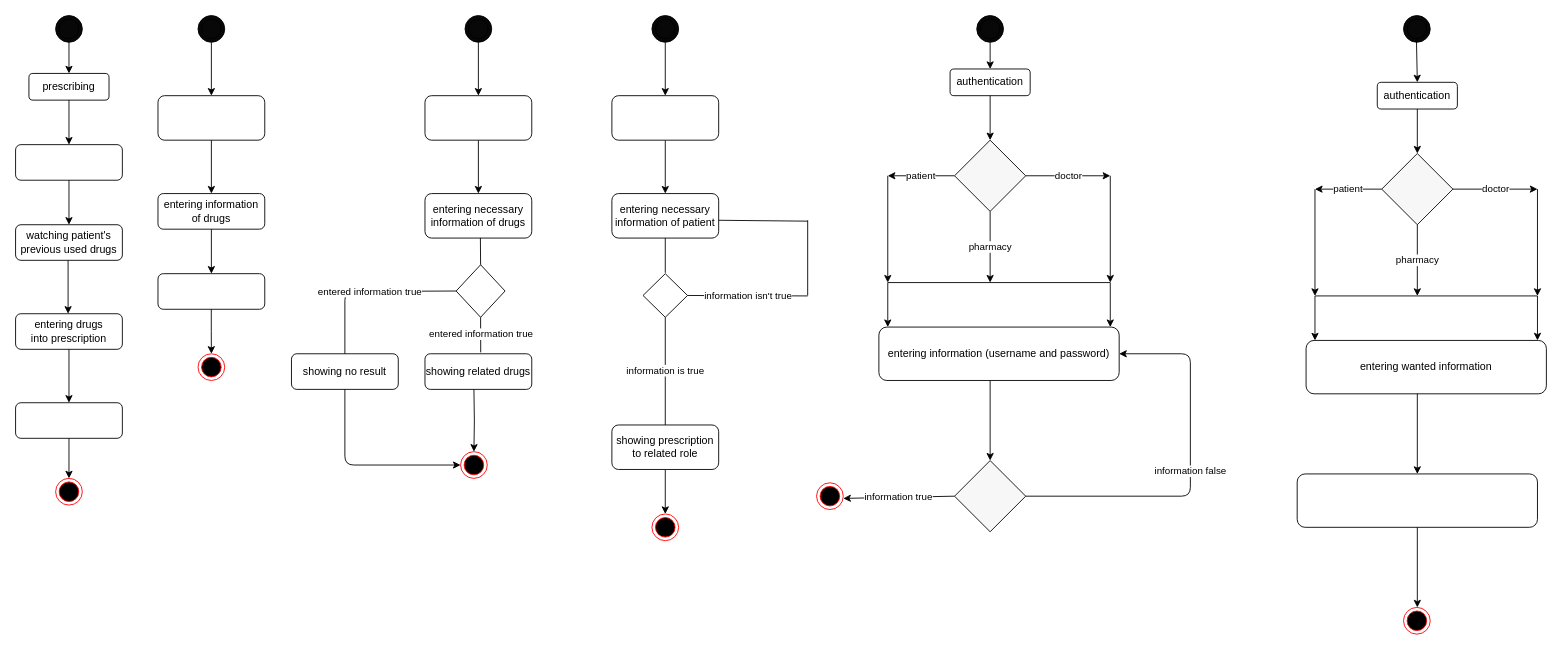
The diagram is 1562 pixels wide and 650 high, and some of its shapes have lost their labels. Here are the shapes that lost their labels. From the top down, the centre of each, then its label:
At (211,117): "registering drugs".
At (478,117): "searching in drugs".
At (665,117): "seeing prescription".
At (68,162): "entering patient's information".
At (211,291): "saving information in database".
At (68,420): "register prescription".
At (1416,500): "saving gotten information in database".
